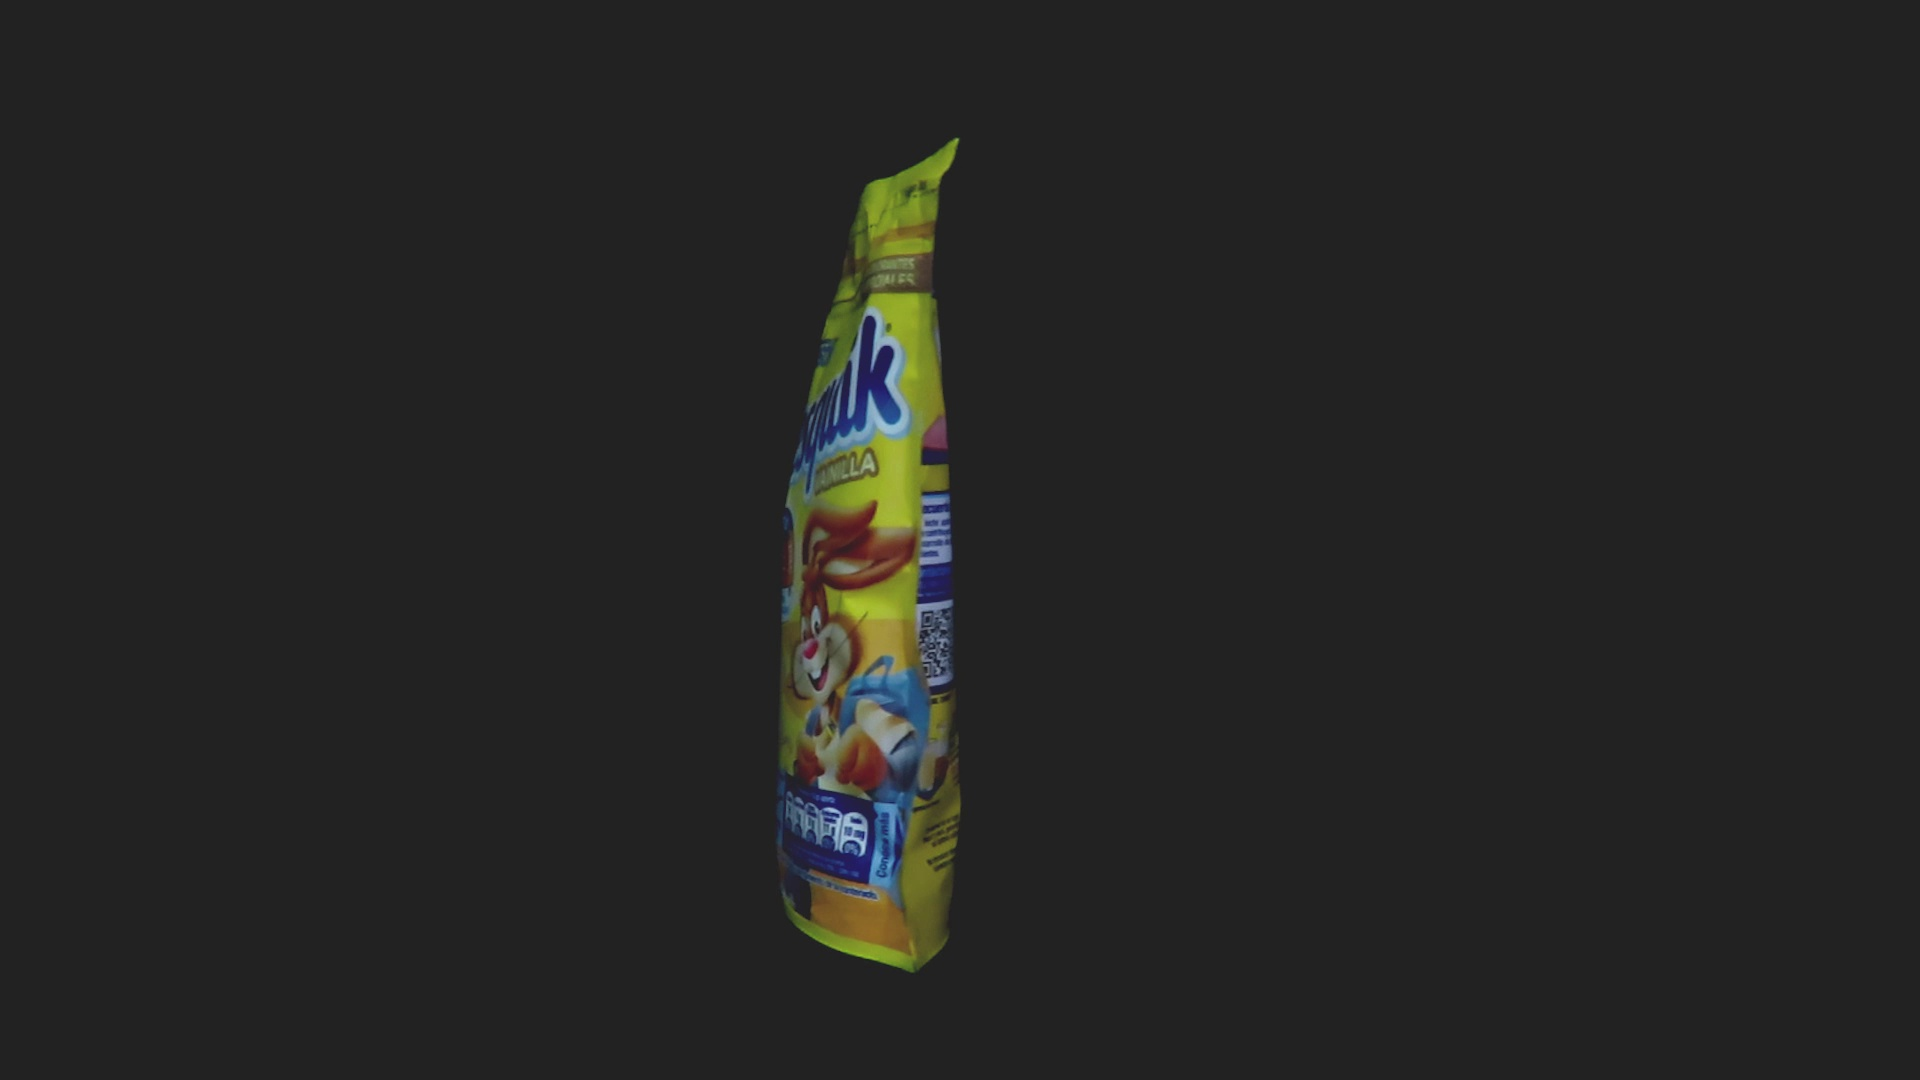COL0170306DYP20000: (770, 133, 967, 978)
